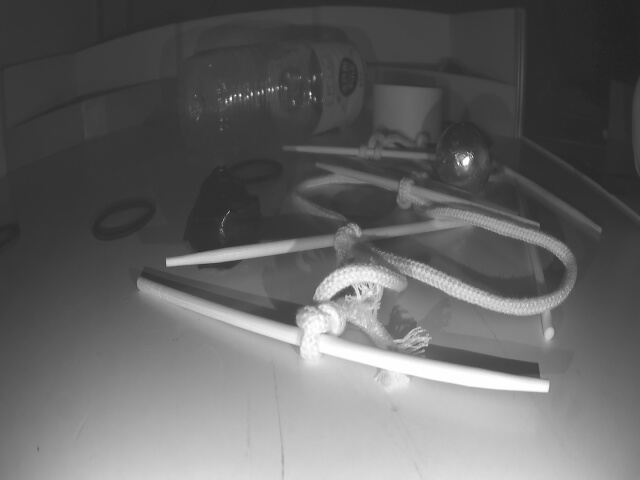Dead: (184, 173, 258, 267)
Live: (436, 121, 489, 196)
Point: (7, 75, 179, 172), (362, 56, 512, 137)
